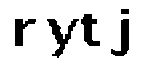j: (105, 6, 134, 59)
r: (12, 14, 37, 48)
t: (79, 10, 104, 50)
y: (47, 17, 78, 60)
